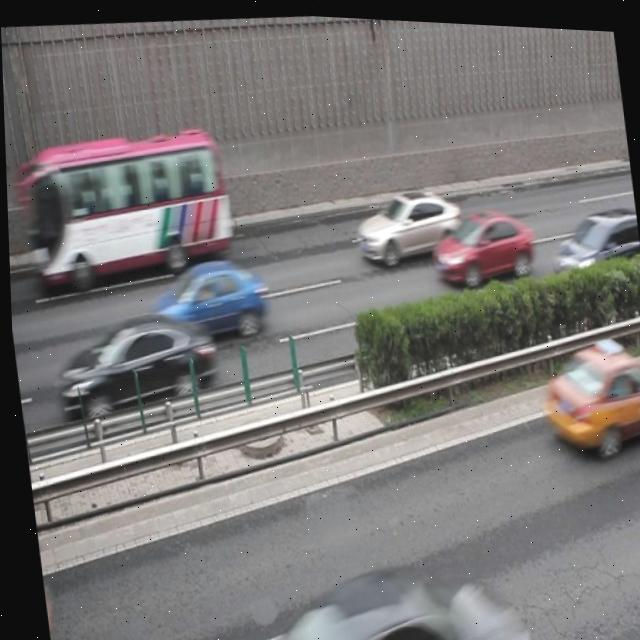car: (250, 546, 517, 640), (50, 306, 217, 424), (532, 328, 640, 453), (148, 254, 267, 343), (352, 178, 464, 265), (427, 197, 535, 278), (548, 197, 640, 281)
van: (14, 115, 236, 294)
